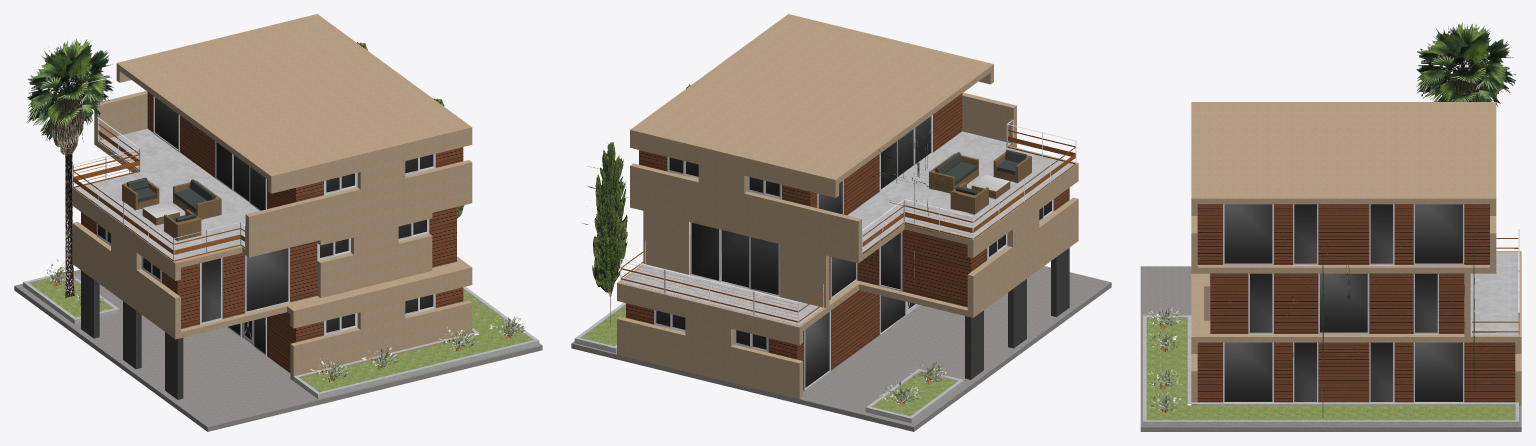
The model's file is v_mac.glb.
3 views of the same model, side by side, from view 1: azimuth 30°, elevation 25°; view 2: azimuth 150°, elevation 25°; view 3: azimuth 270°, elevation 25° (orthographic). The views are drawn at different scales.
Size of the model in its own units: 16.89 by 11.64 by 15.34.
23 materials, 15 textured.
